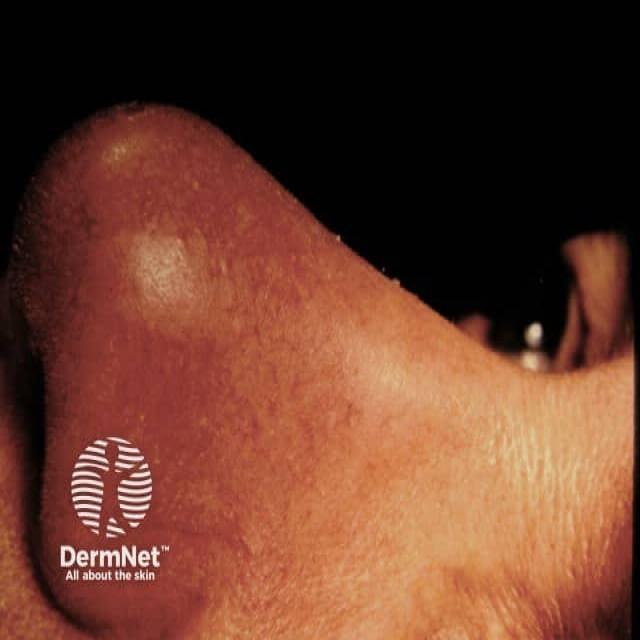lupus-detected: (0, 100, 442, 617)
